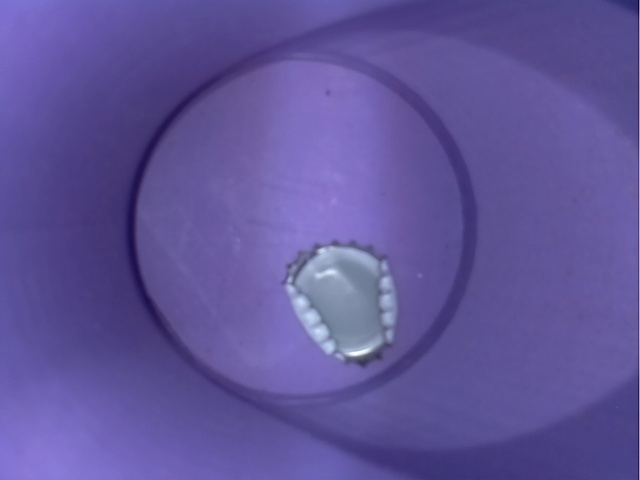capsule: (254, 229, 416, 374)
